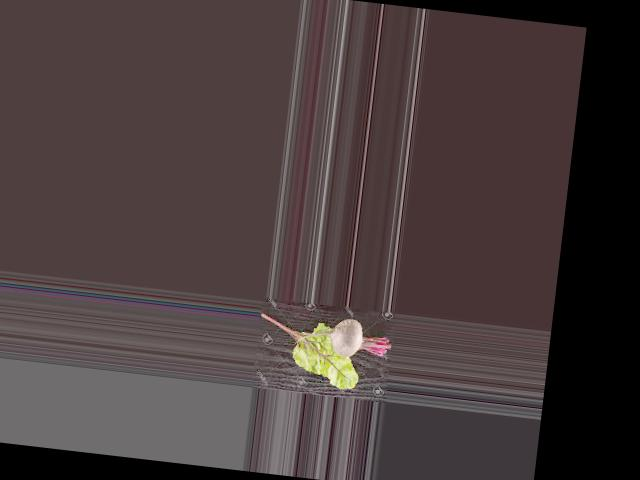beet: (295, 312, 394, 361)
